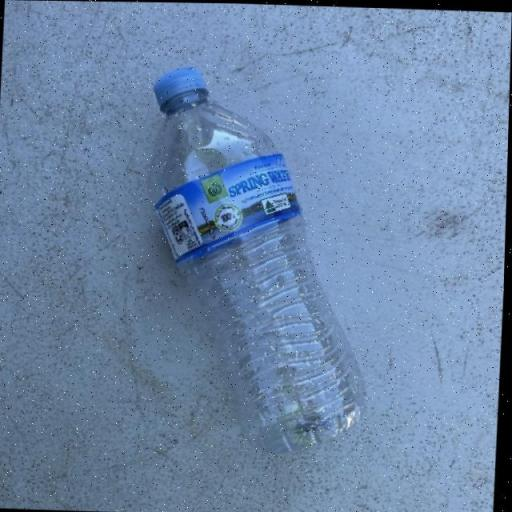plastic: (135, 64, 382, 456)
